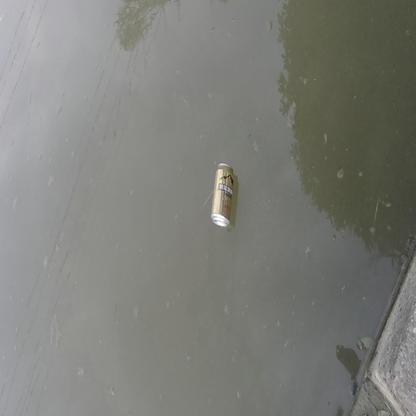can: (211, 162, 235, 227)
